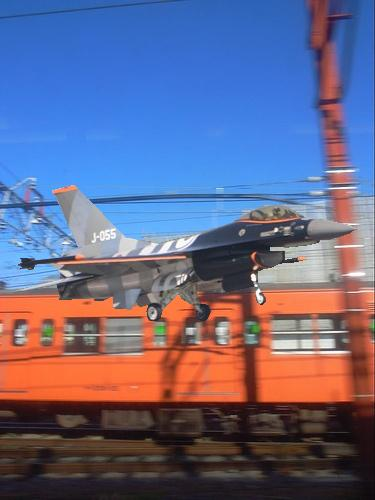tampered: (10, 186, 357, 321)
